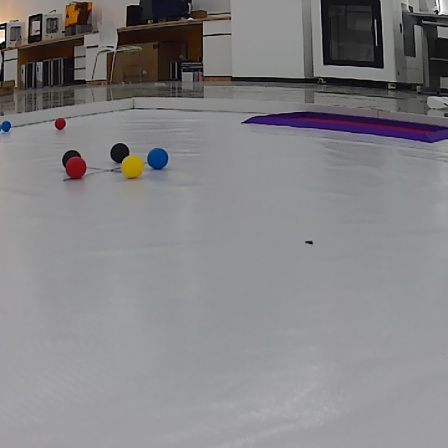black: (57, 148, 81, 167), (111, 140, 130, 164)
blue: (144, 147, 172, 168), (1, 119, 13, 133)
red: (65, 156, 90, 183), (52, 117, 68, 132)
red_aim: (238, 110, 448, 146)
yellow: (121, 155, 144, 179)
